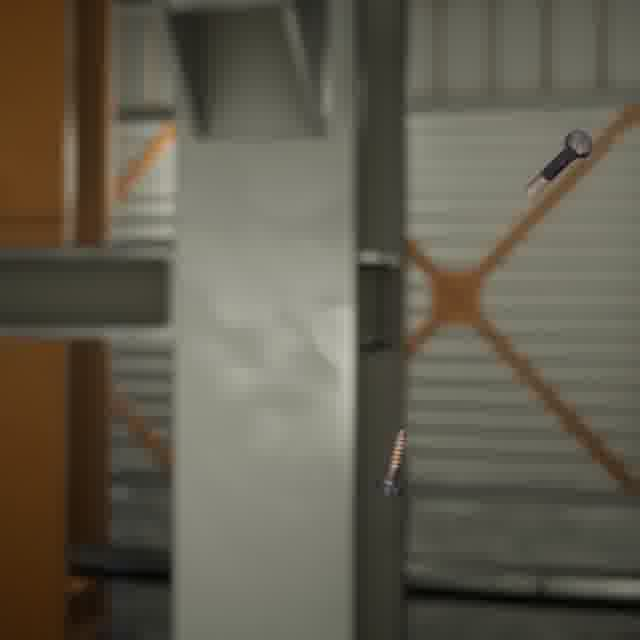bolt: (521, 126, 596, 201), (370, 424, 411, 501)
